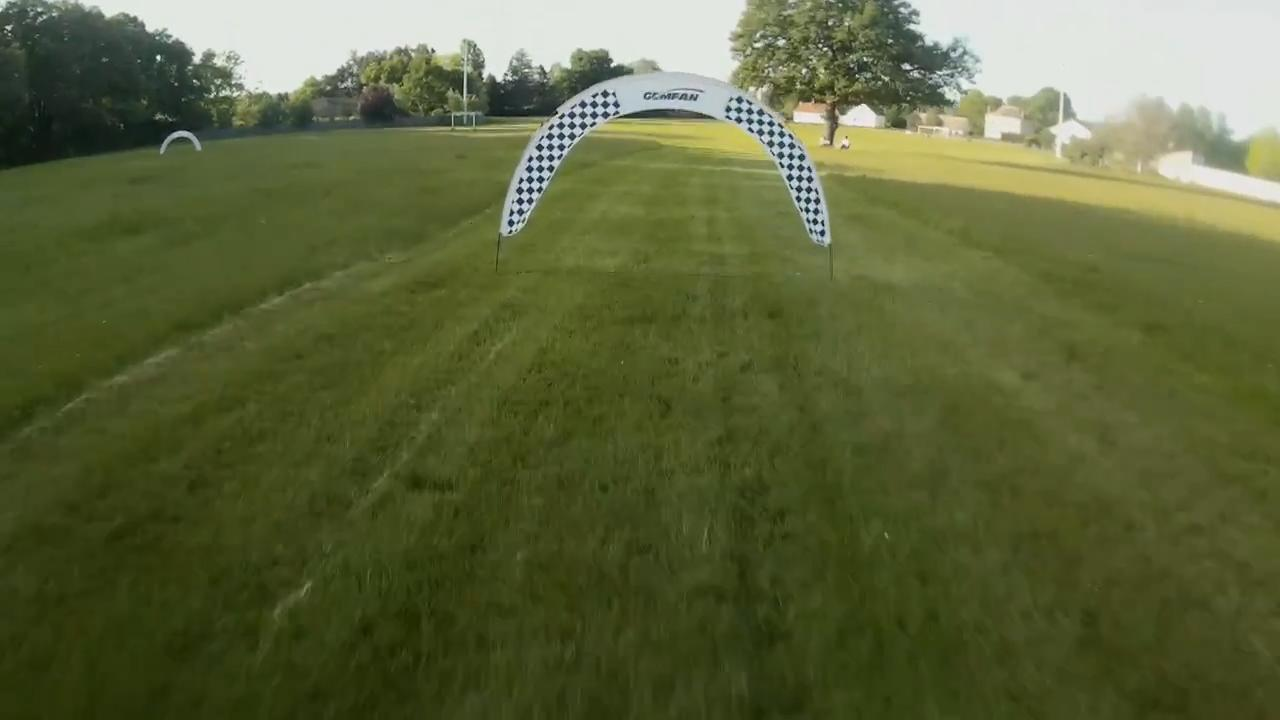gate: (497, 70, 832, 246), (159, 130, 203, 155)
